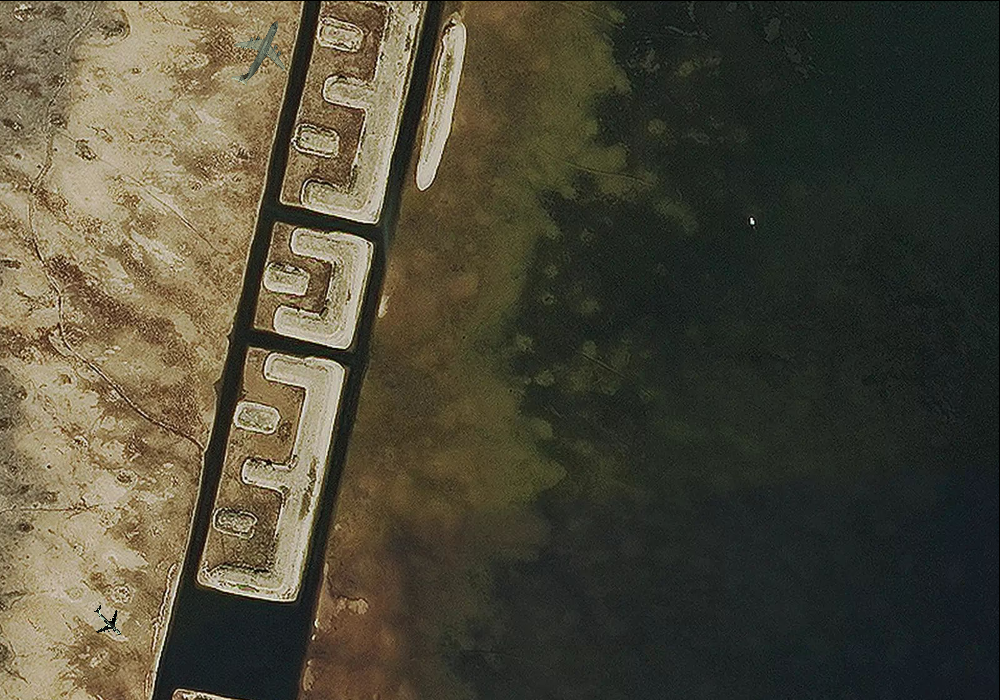plane: (212, 4, 304, 99), (83, 596, 133, 647)
